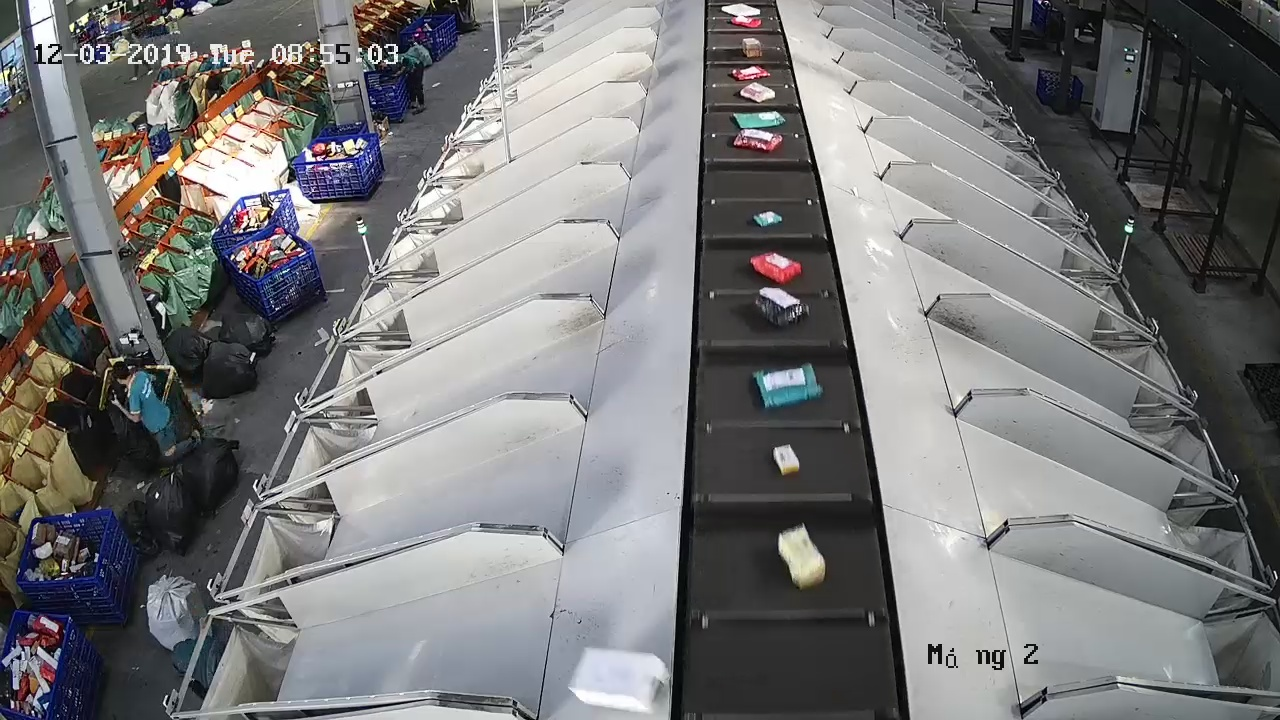parcel: (567, 646, 671, 714), (751, 362, 823, 410), (777, 523, 827, 592), (754, 286, 811, 329), (749, 250, 803, 285), (732, 128, 784, 153), (772, 443, 801, 476), (752, 208, 783, 228)
